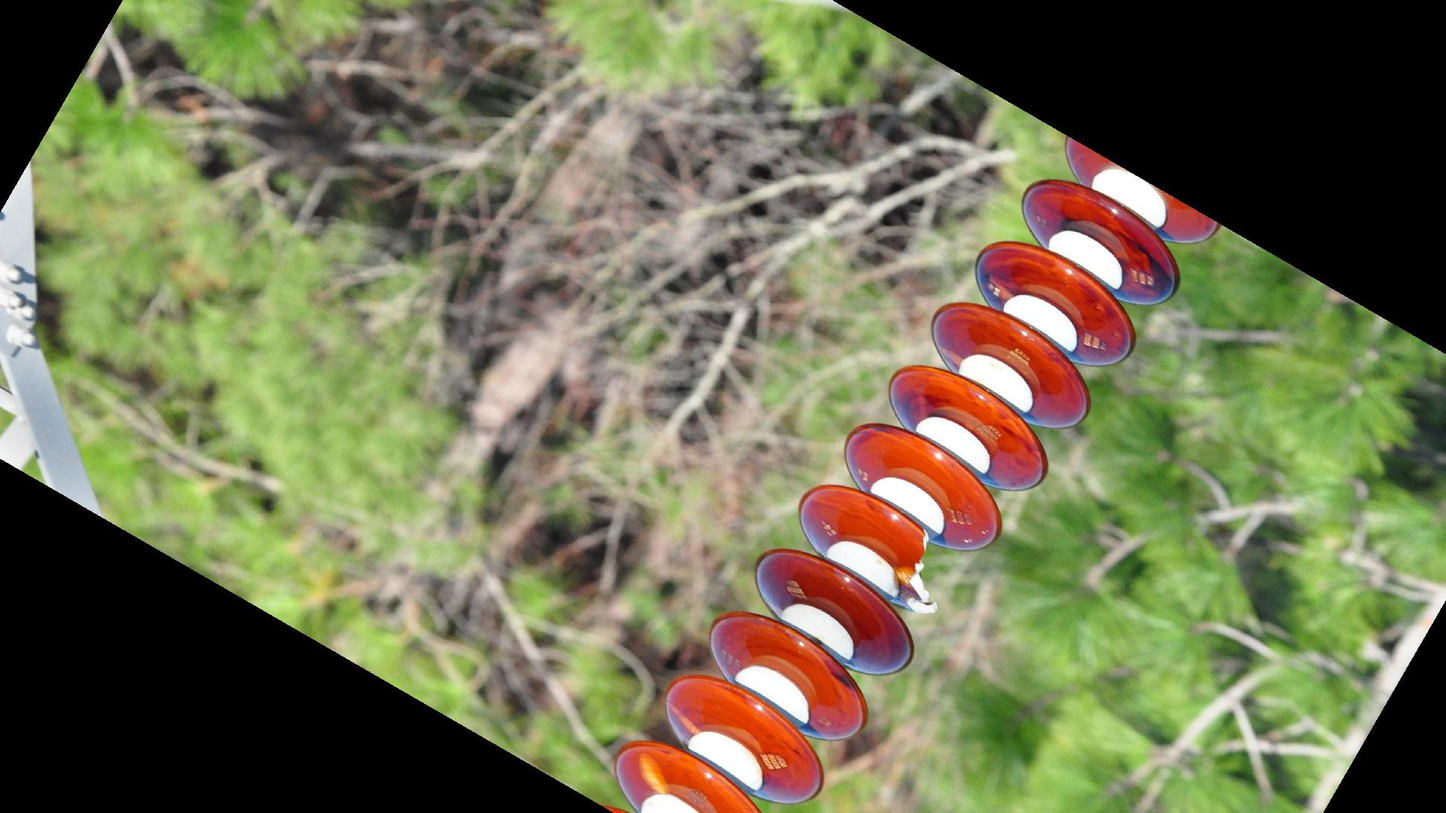insulator: (606, 125, 1223, 813)
insulator_breakage: (898, 516, 945, 620)
insulator_flashover: (634, 750, 673, 797)
